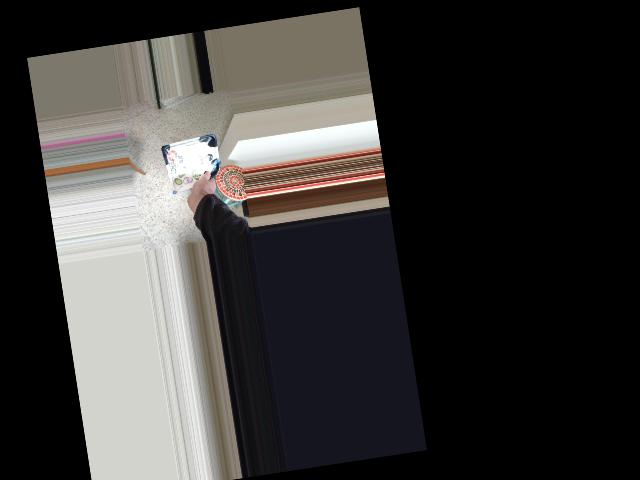cheese: (163, 144, 227, 213)
